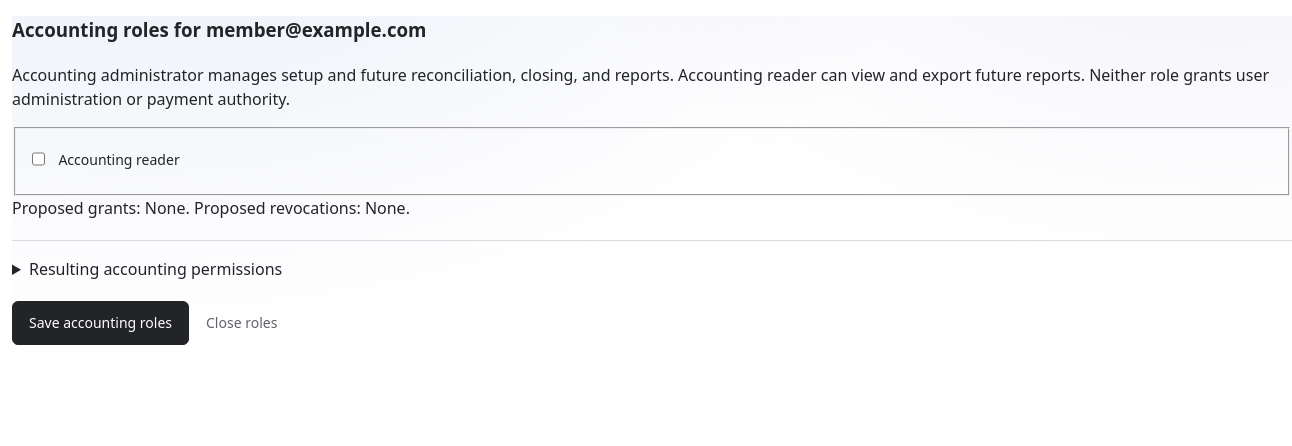
Test case: retains the original role command when successful receipt readback is unavailable
Click the checkbox labelled "Accounting reader".
click(38, 159)  # box [32, 137, 45, 181]
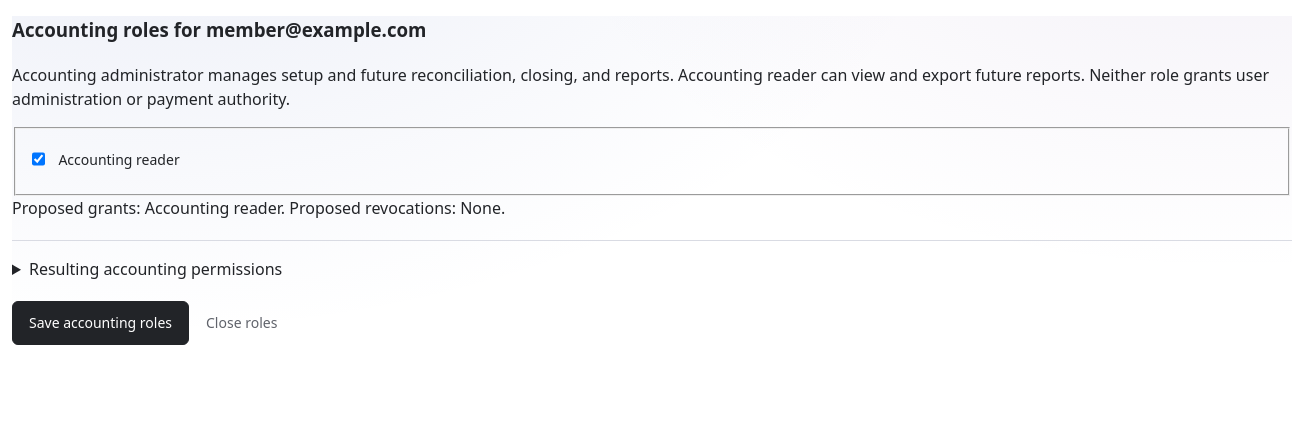
Click the button "Save accounting roles".
click(100, 323)  # box [12, 301, 189, 345]
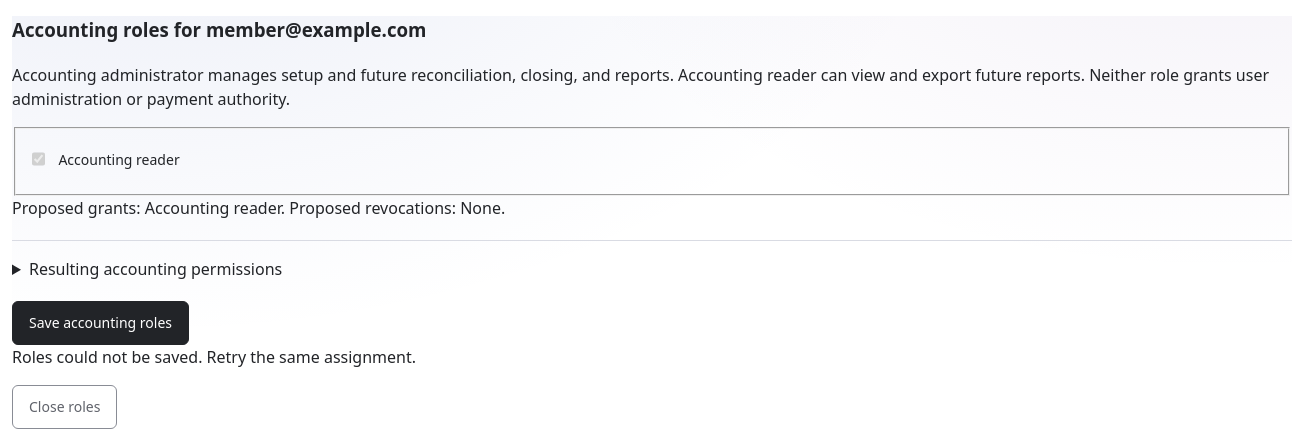
Now the text "Roles could not be saved. Retry the same assignment." is shown, box [12, 346, 416, 368]
Now the button "Close roles" is disabled, box [12, 385, 117, 429]
Note: WHEN retried THEN it reuses the accepted command until current readback completes
Click the button "Save accounting roles".
click(100, 323)  # box [12, 301, 189, 345]
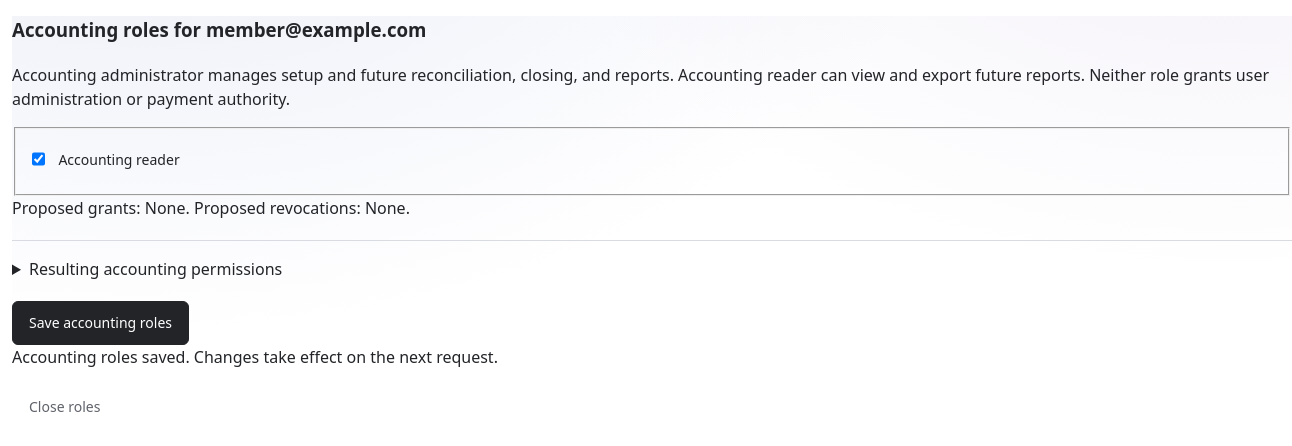
Expected: the button "Close roles" is enabled, [12, 385, 117, 429]
Now the text "Accounting roles saved. Changes take effect on the next request." is shown, box [12, 346, 498, 368]
